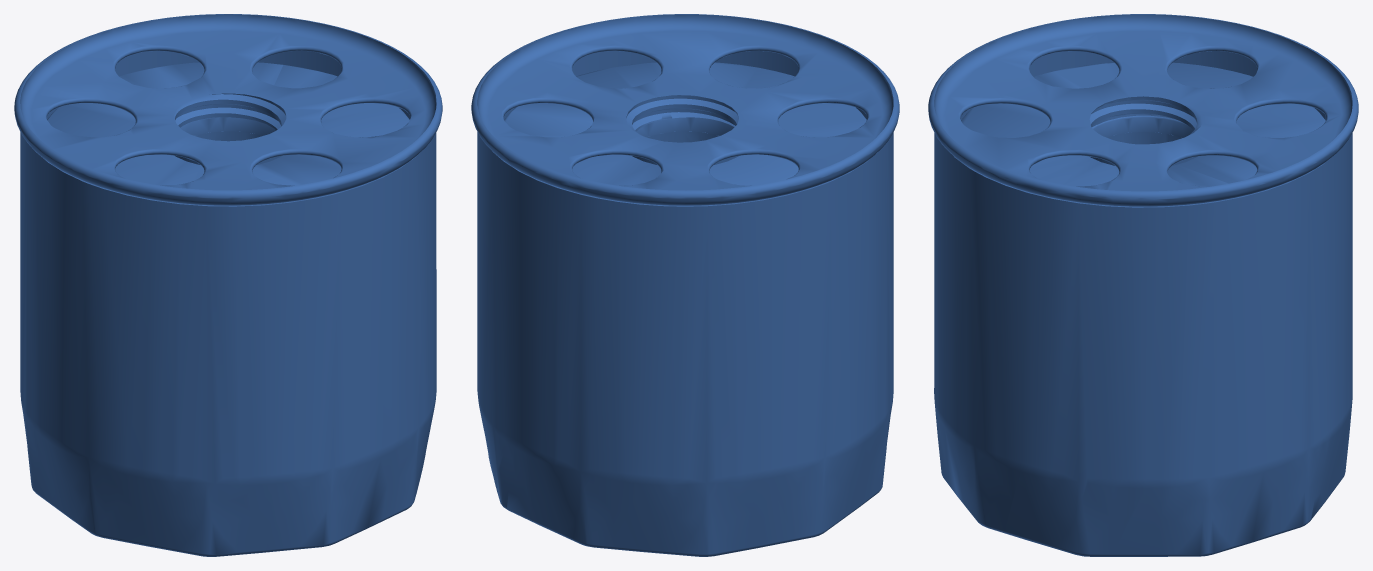
File: oil-filter.glb
3 renders of one model, left to right at view 1: azimuth 30°, elevation 25°; view 2: azimuth 150°, elevation 25°; view 3: azimuth 270°, elevation 25°, orthographic.
Visible parts, largest first — view 1: part; view 2: part; view 3: part.
Boxes of the visible parts, <box> form: part: <box>14,14,442,556</box>; part: <box>471,14,899,556</box>; part: <box>928,14,1358,556</box>.
Size of the model in its own units: 72 by 69 by 72.
